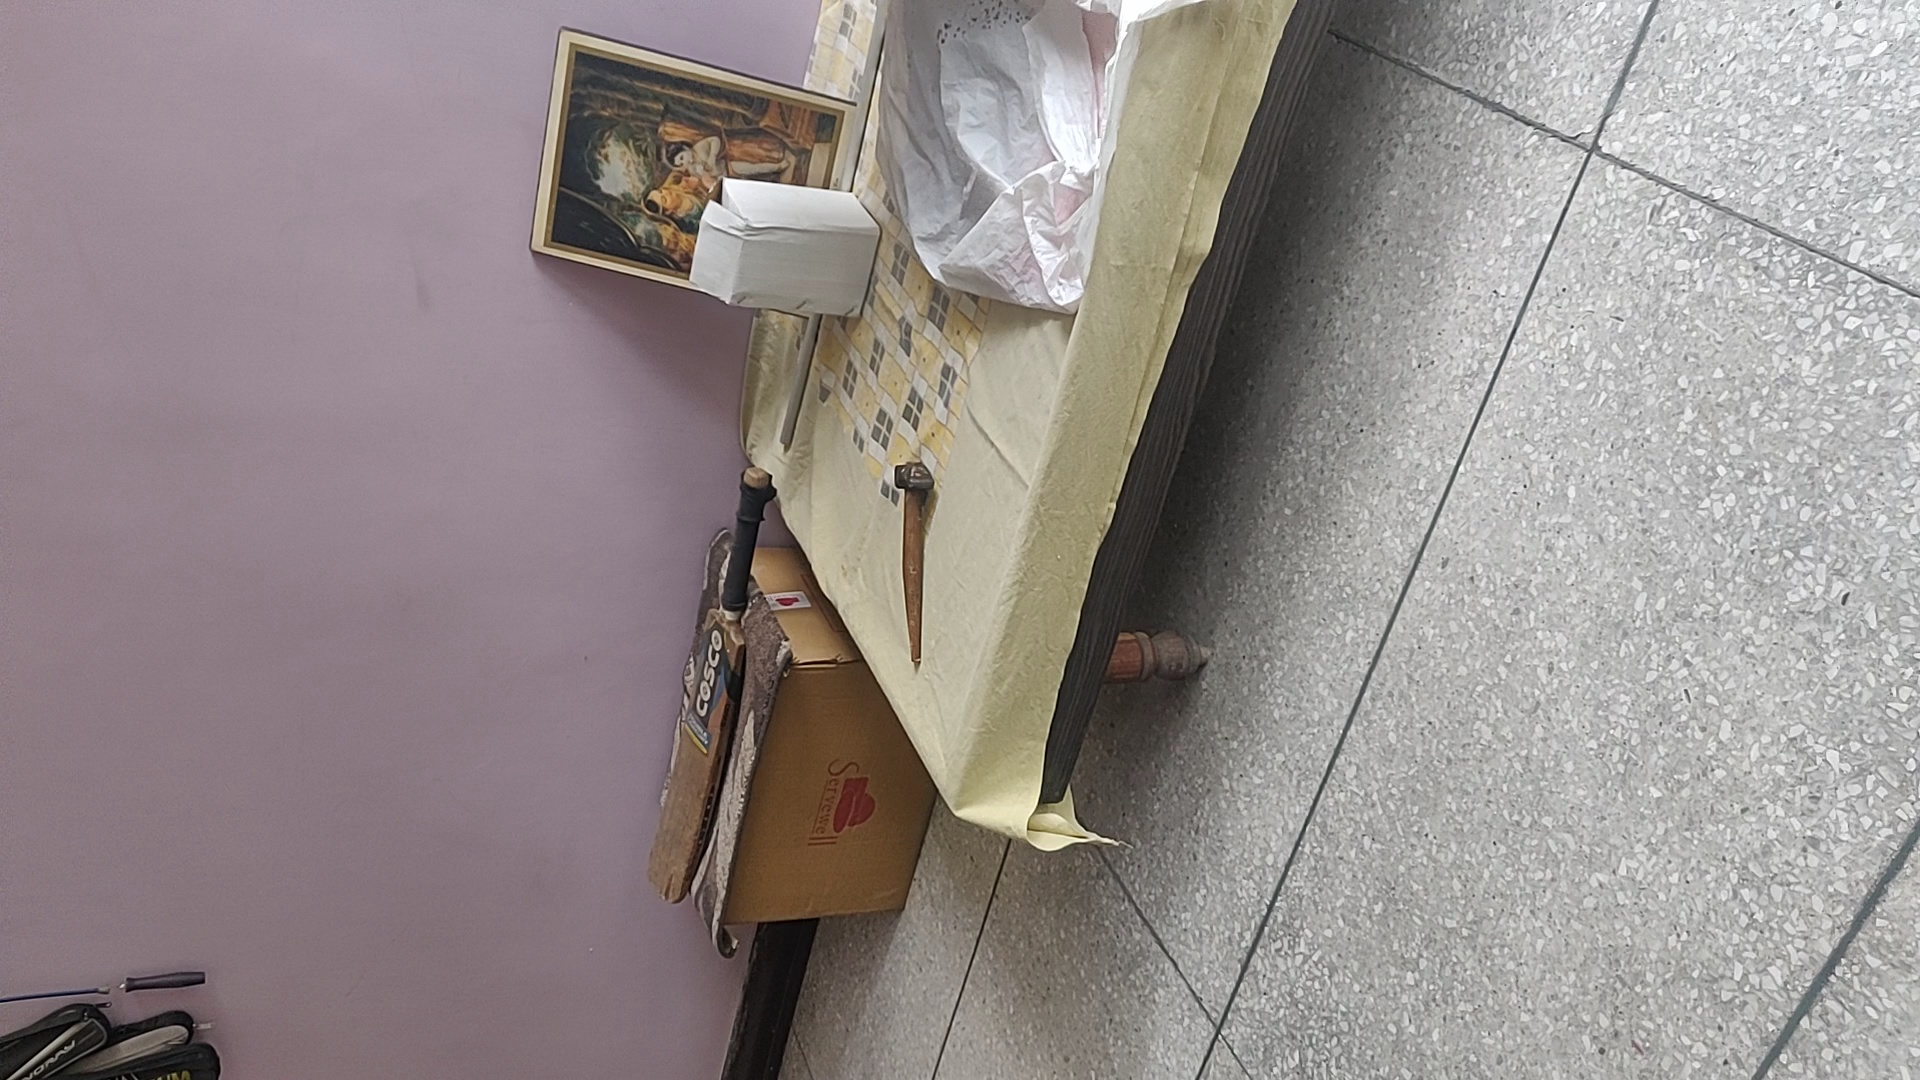hammer: (891, 460, 934, 666)
